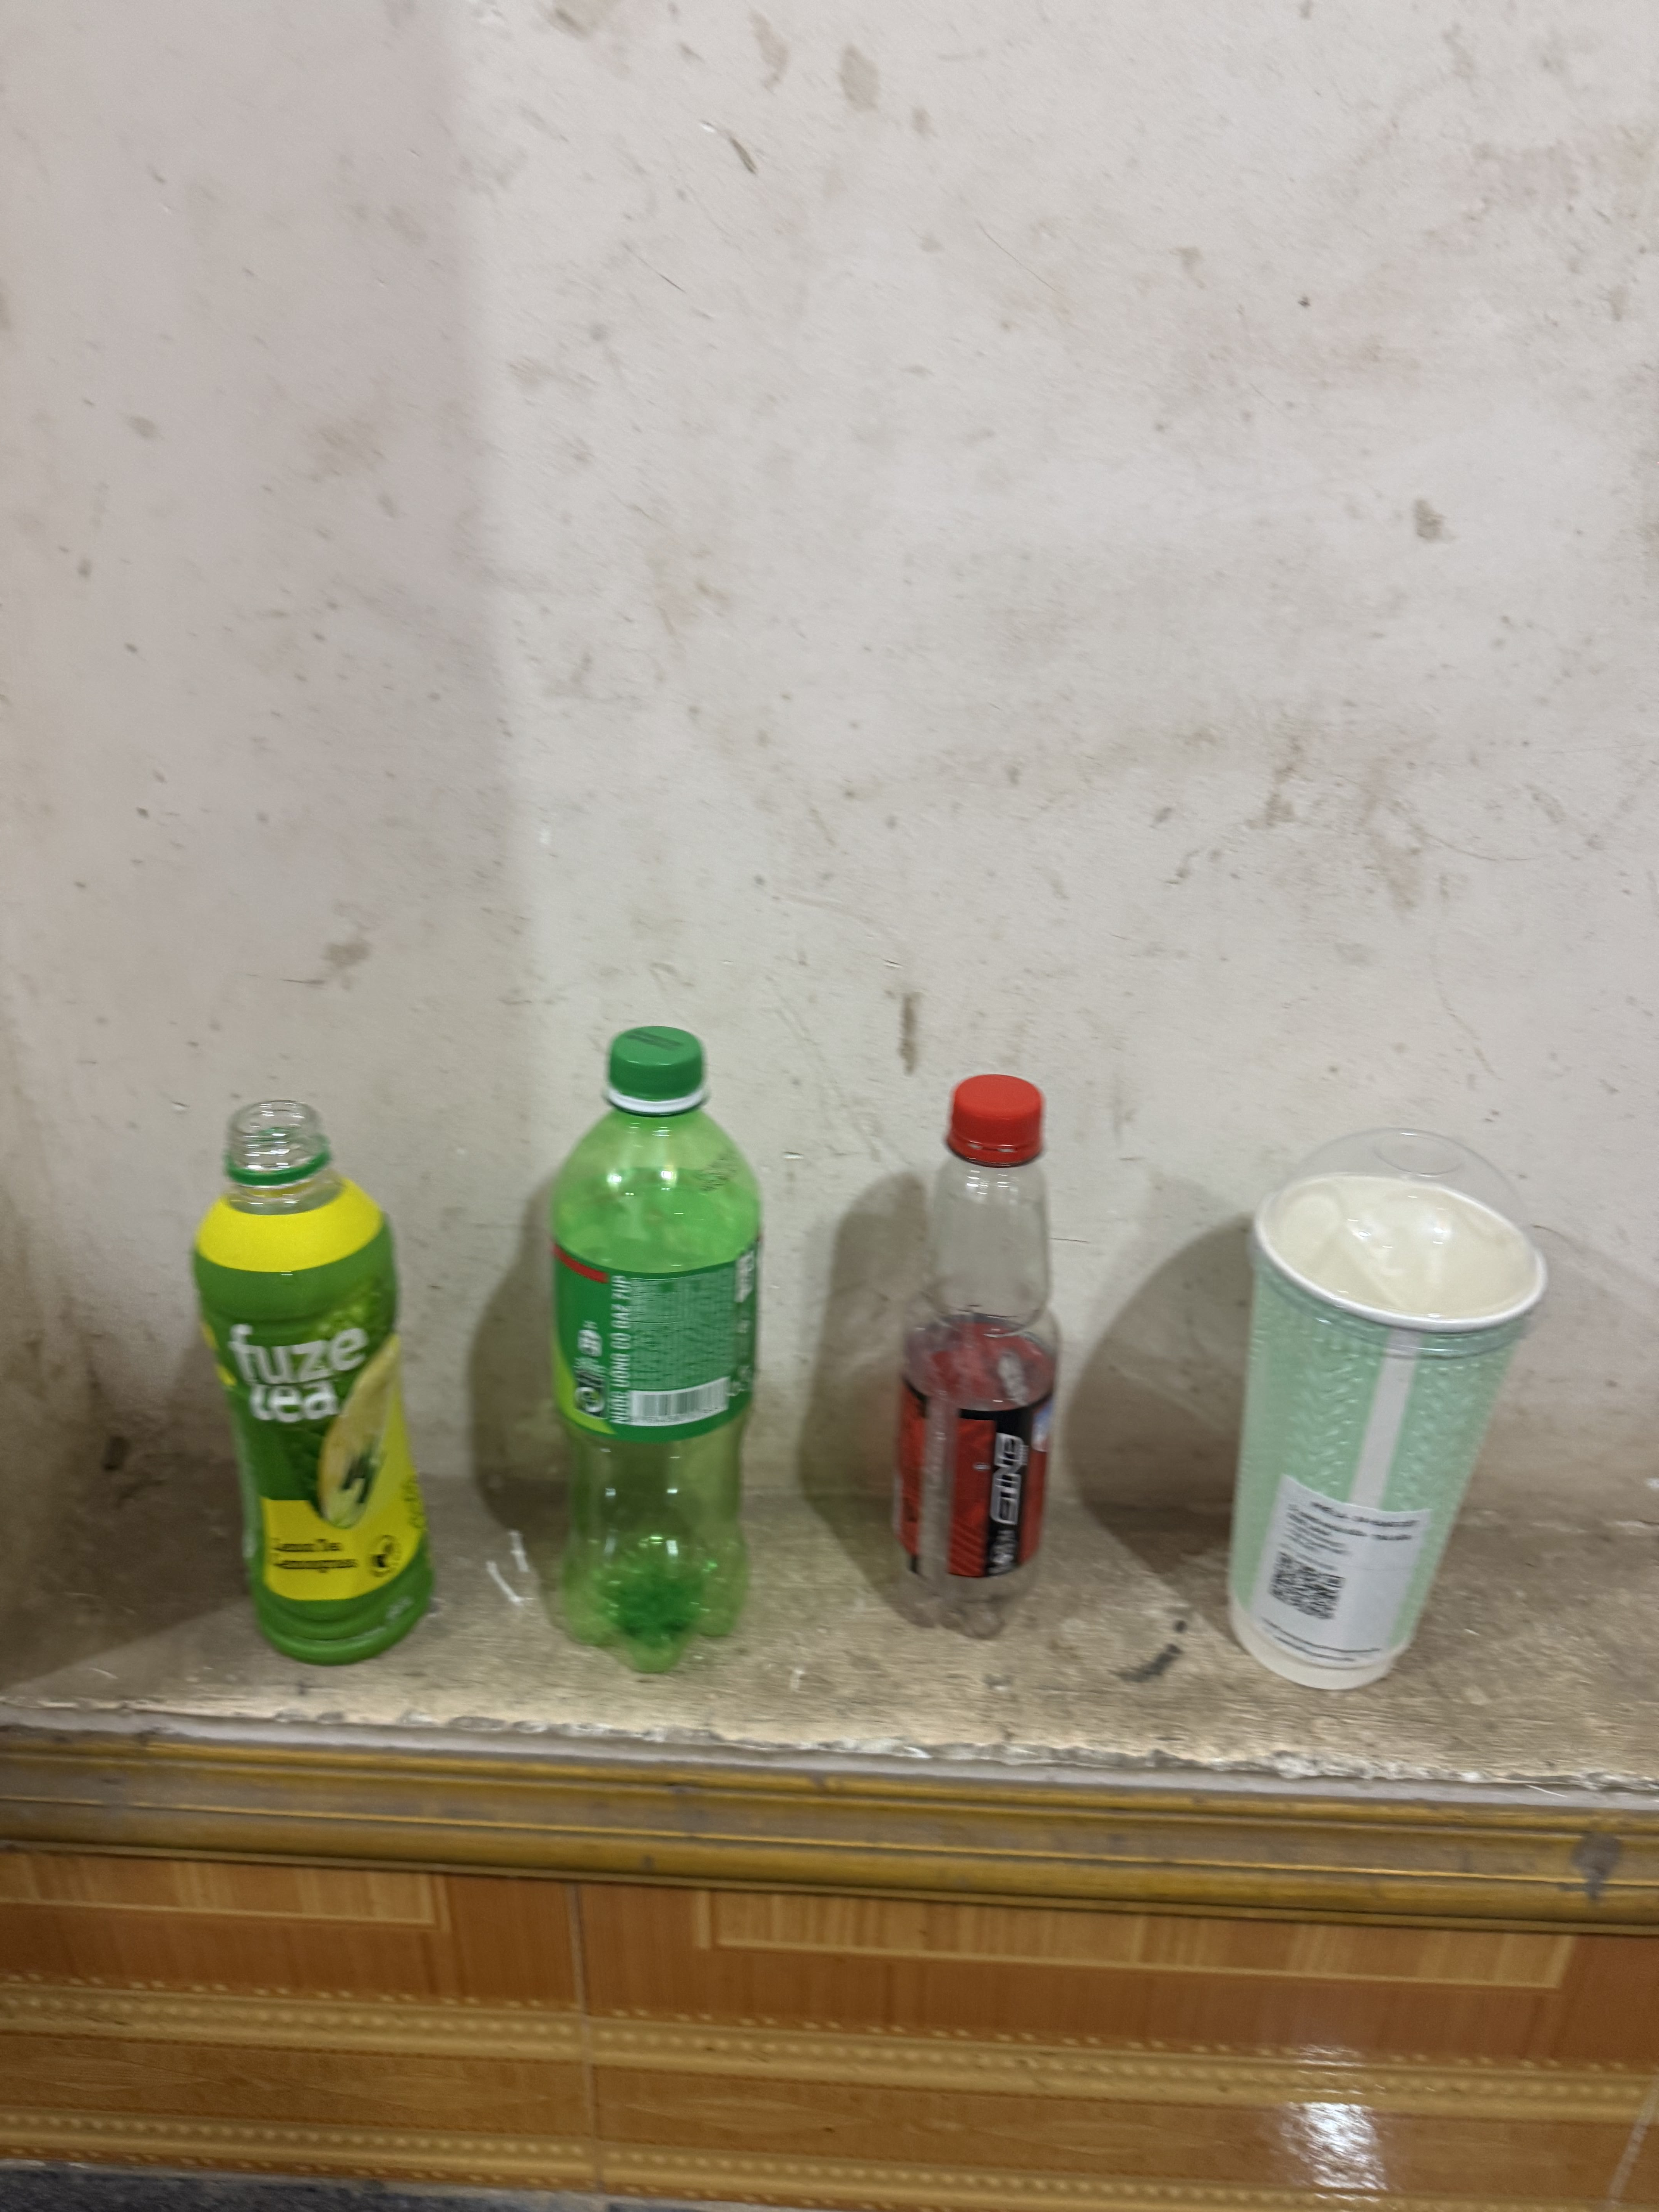2: (1192, 1099, 1556, 1747)
bottle: (164, 1082, 471, 1679), (526, 1001, 784, 1689), (873, 1055, 1086, 1691)
